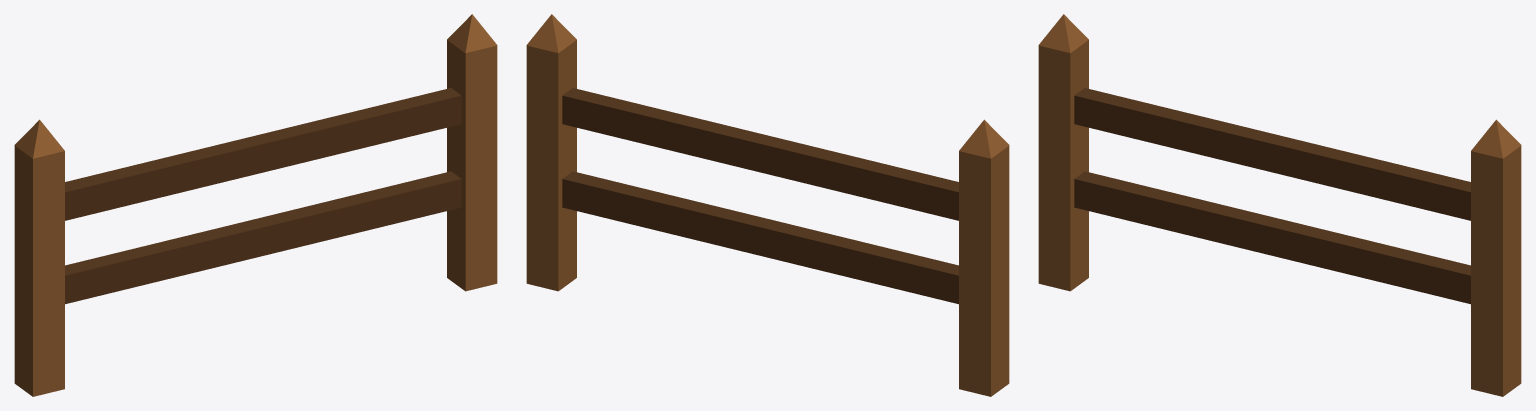
The model's file is fence.glb.
The picture shows the model from 3 angles, left to right: view 1: azimuth 30°, elevation 25°; view 2: azimuth 150°, elevation 25°; view 3: azimuth 330°, elevation 25°; orthographic projection.
Visible parts, largest first — view 1: FenceFence; view 2: FenceFence; view 3: FenceFence.
Boxes of the visible parts, x1,y1,x2,y2 form: FenceFence: [14, 14, 497, 396]; FenceFence: [526, 14, 1009, 396]; FenceFence: [1038, 14, 1521, 396].
Size of what is drawn, in the model's own units: 2.04 by 1.12 by 0.1414.
